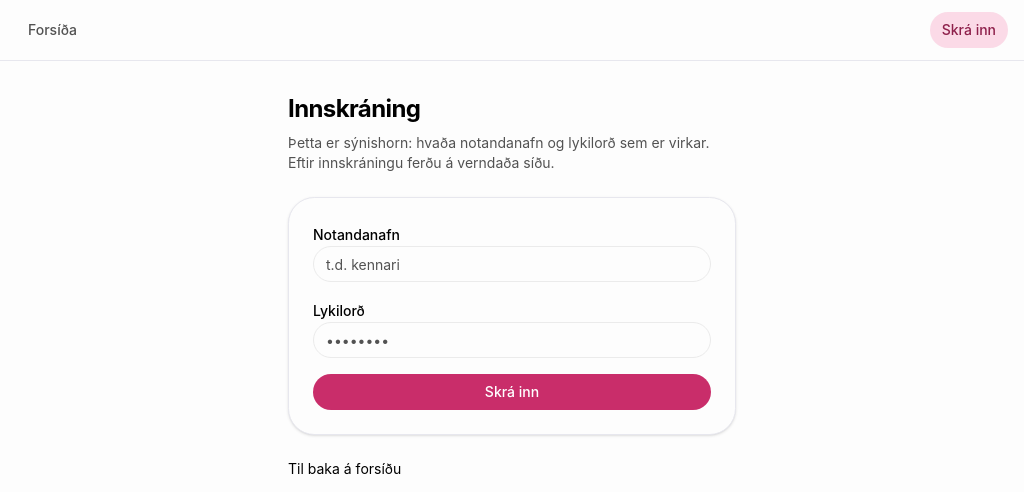
Login (E2E) › logout and redirect to login page
Type "kennari" into the field labelled "Notandanafn" at (512, 264), box [313, 246, 711, 282]
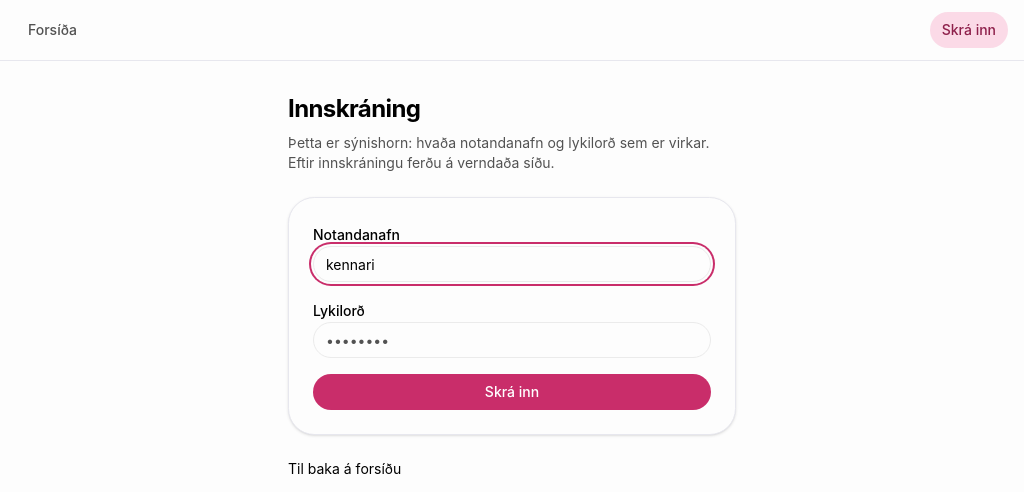
Type "lykilorð" into the password field labelled "Lykilorð" at (512, 340), box [313, 322, 711, 358]
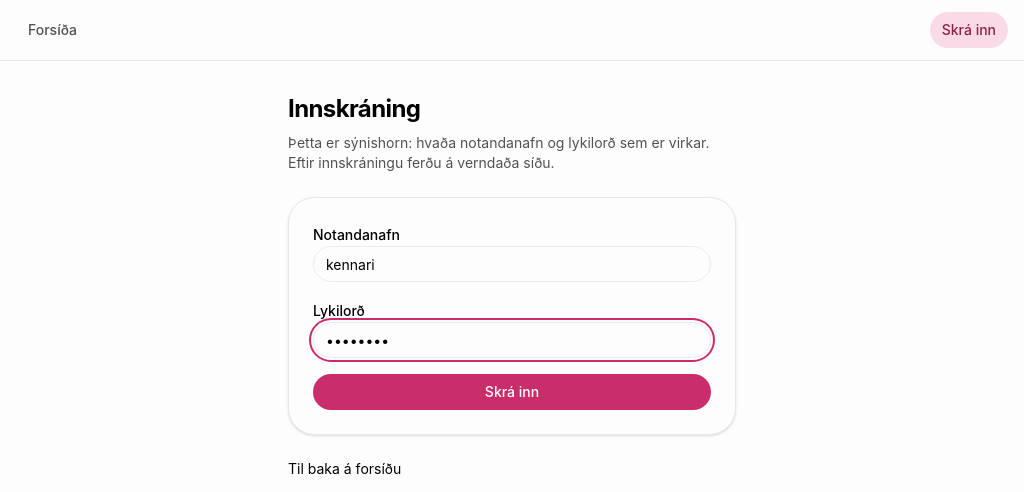
Click the button "Skrá inn" at (512, 392), box [313, 374, 711, 410]
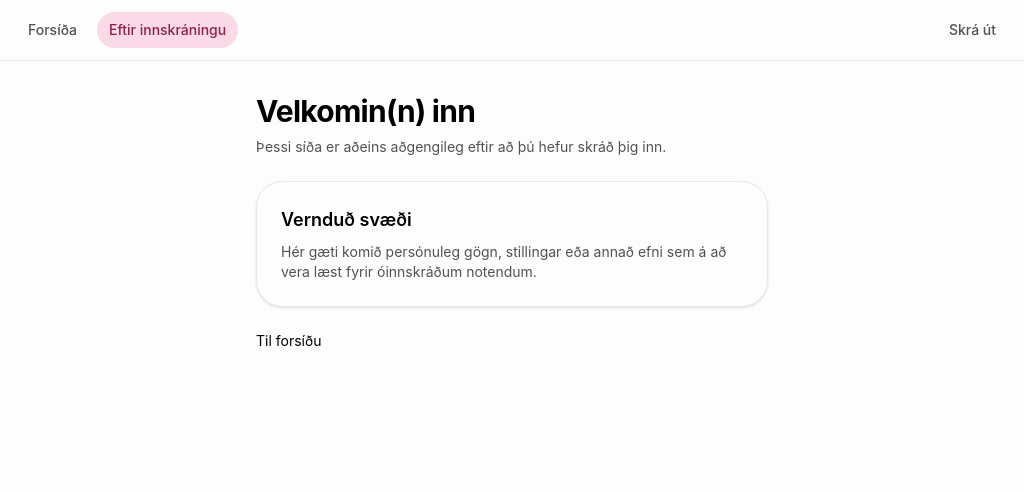
Click the button "Skrá út" at (973, 30), box [937, 12, 1008, 48]
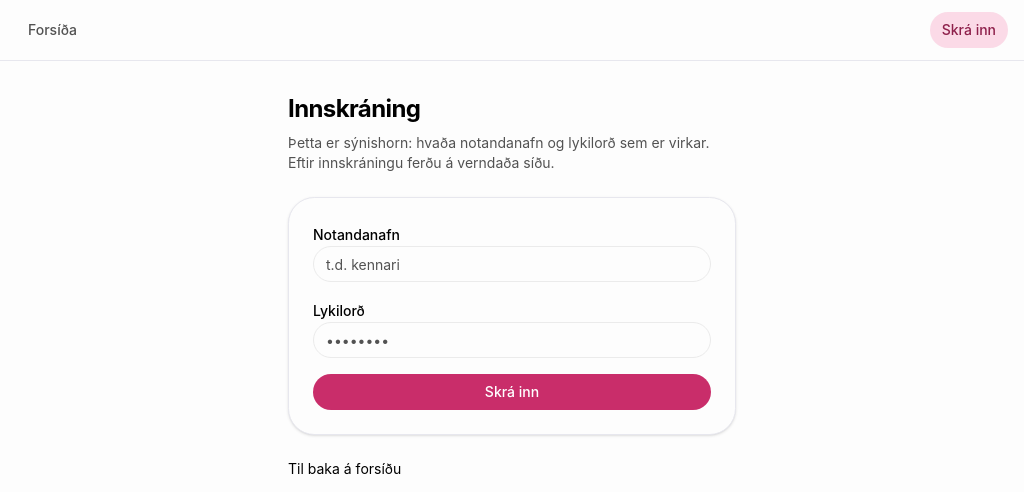
Check: the heading "Innskráning" is shown, box [288, 94, 420, 123]
